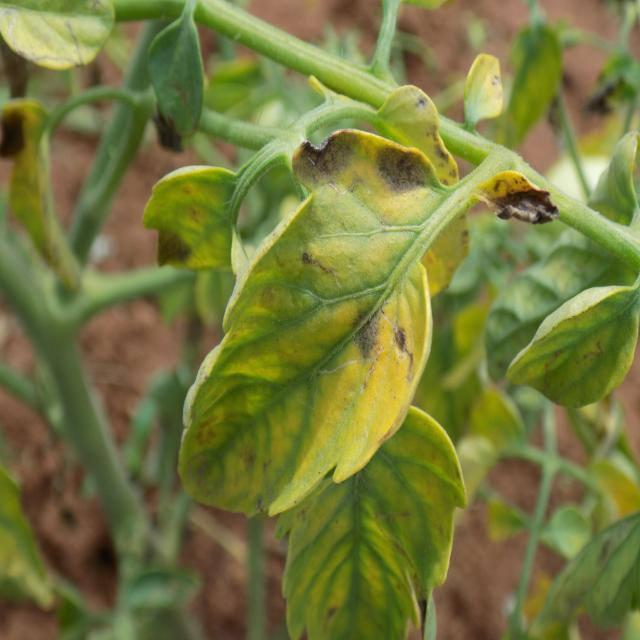tomato_early blight: (180, 128, 435, 516), (278, 398, 468, 640), (287, 124, 473, 306), (306, 65, 459, 198), (5, 88, 82, 316), (511, 287, 640, 409), (155, 143, 250, 271), (487, 156, 559, 233), (467, 44, 503, 125)
